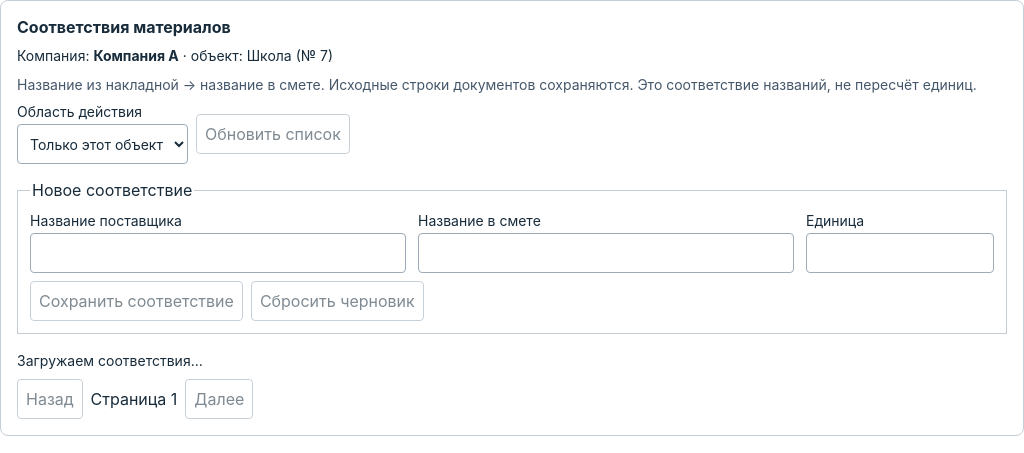
Test: switching scope discards a late previous-scope response
Select "Вся компания" in the dropdown labelled "Область действия": (102, 144) [17,124,188,164]
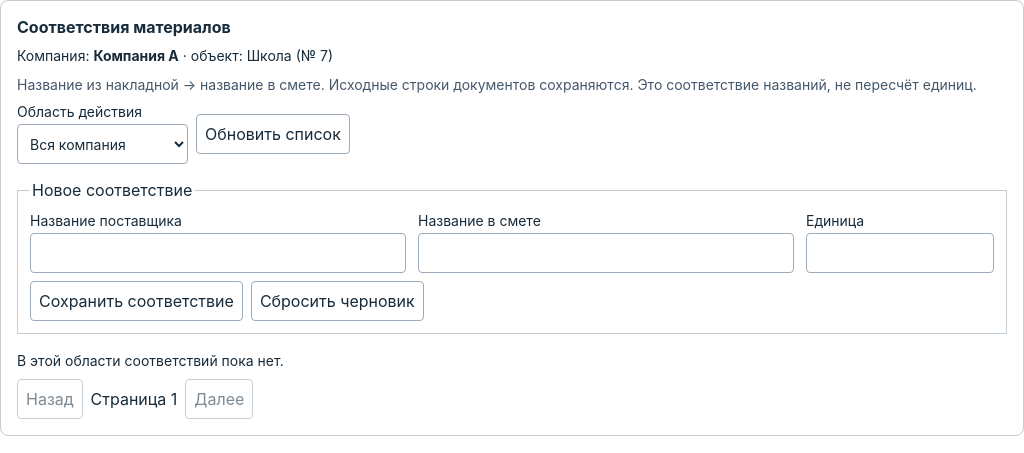
Check: the text "В этой области соответствий пока нет." is shown, box [17,352,284,369]
